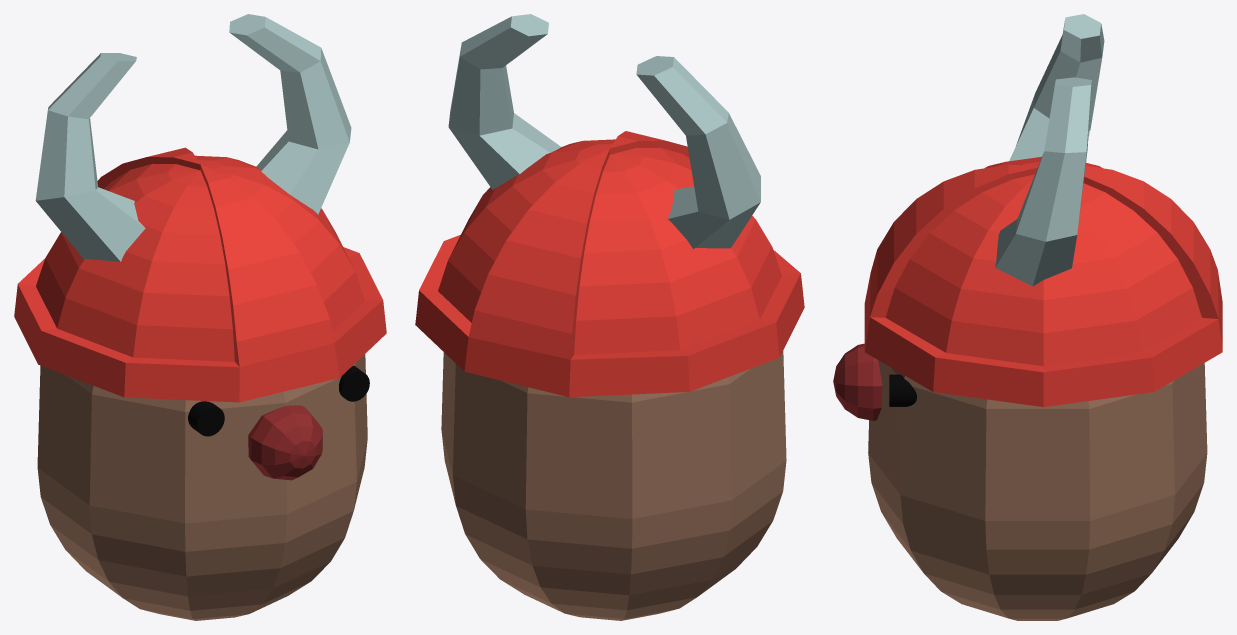
File: NPC_Simp.fbx
3 renders of one model, left to right at view 1: azimuth 30°, elevation 25°; view 2: azimuth 150°, elevation 25°; view 3: azimuth 270°, elevation 25°, orthographic. The views are drawn at different scales.
Visible parts, largest first — view 1: Sphere.012; view 2: Sphere.012; view 3: Sphere.012.
Part boxes in pixels (x1,y1,x2,y2): Sphere.012: [14, 14, 386, 620]; Sphere.012: [415, 14, 804, 620]; Sphere.012: [833, 14, 1222, 620].
Bounding box in the file's own units: 222 × 364 × 230.
